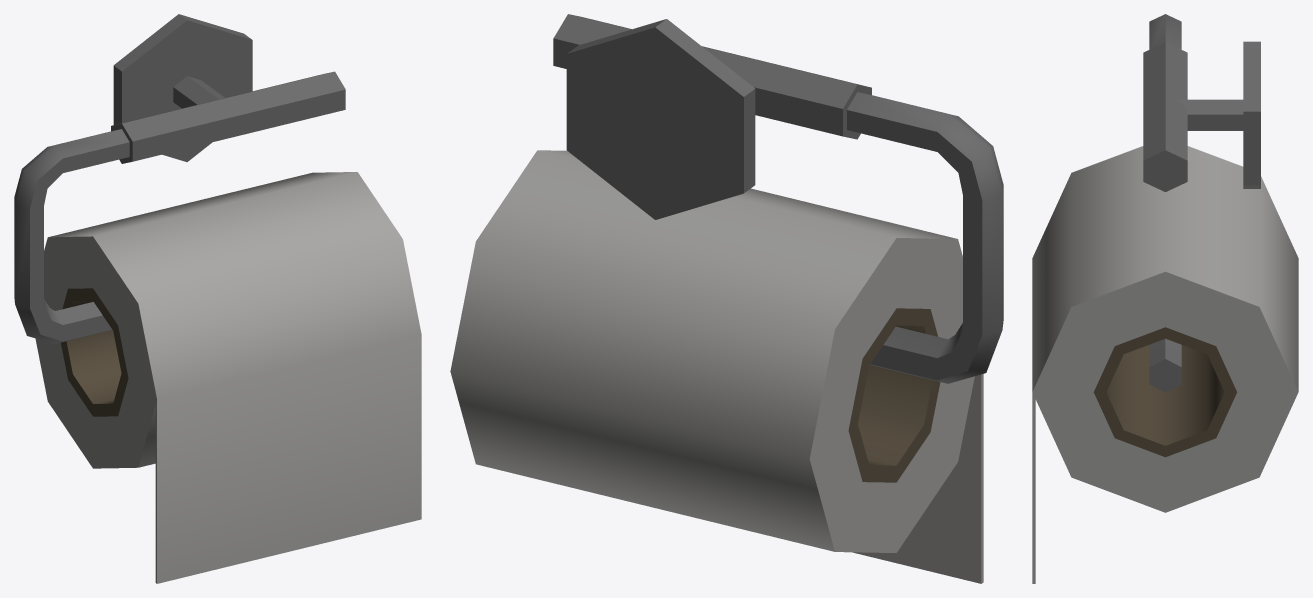
File: q_Bathroom_ToiletPaper.glb
3 renders of one model, left to right at view 1: azimuth 30°, elevation 25°; view 2: azimuth 150°, elevation 25°; view 3: azimuth 270°, elevation 25°, orthographic. The views are drawn at different scales.
Visible parts, largest first — view 1: Bathroom_ToiletPaper_Cylinder.009; view 2: Bathroom_ToiletPaper_Cylinder.009; view 3: Bathroom_ToiletPaper_Cylinder.009.
Boxes of the visible parts, box(x1,y1,x2,y2) form: Bathroom_ToiletPaper_Cylinder.009: box(14, 14, 421, 583); Bathroom_ToiletPaper_Cylinder.009: box(450, 14, 1003, 583); Bathroom_ToiletPaper_Cylinder.009: box(1032, 14, 1298, 583).
Bounding box in the file's own units: 0.2999 × 0.3444 × 0.1749.
